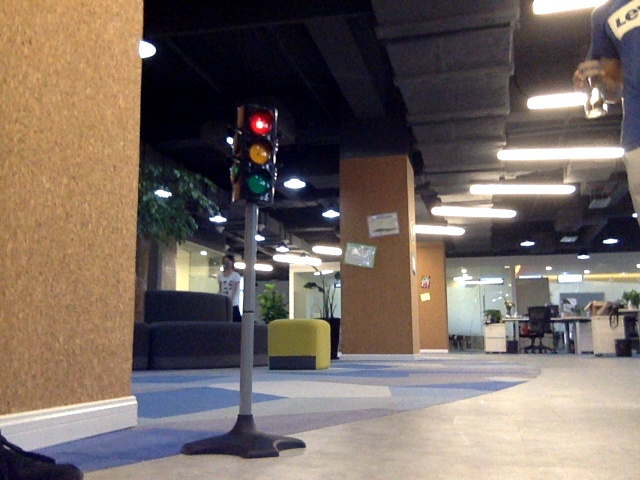red: (240, 108, 272, 193)
